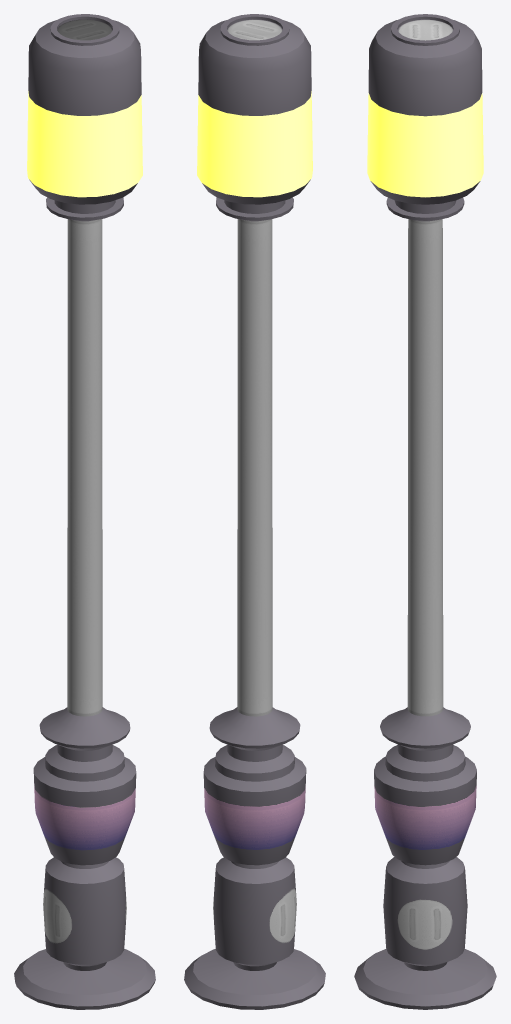
The model's file is LampostSmall_12.glb.
3 renders of one model, left to right at view 1: azimuth 30°, elevation 25°; view 2: azimuth 150°, elevation 25°; view 3: azimuth 270°, elevation 25°, orthographic.
Parts seen in each view (by area): view 1: Lamp_LOD0.001_12; view 2: Lamp_LOD0.001_12; view 3: Lamp_LOD0.001_12.
Boxes of the visible parts, left/top/right/bottom form: Lamp_LOD0.001_12: left=14, top=14, right=155, bottom=1009; Lamp_LOD0.001_12: left=184, top=14, right=325, bottom=1009; Lamp_LOD0.001_12: left=354, top=14, right=496, bottom=1009.
Size of what is drawn, in the model's own units: 0.7124 by 5.25 by 0.7124.
Materials: 2 (1 with a texture image).
